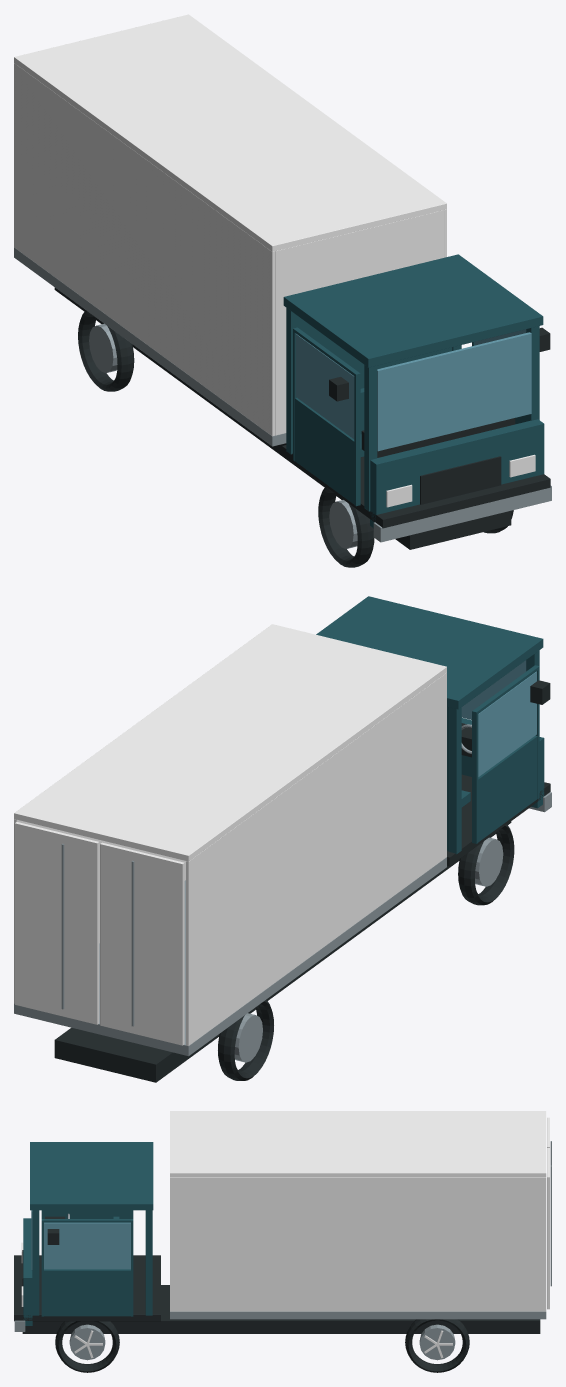
Rendered from cargo-truck.glb.
3 renders of one model, top to bottom at view 1: azimuth 30°, elevation 25°; view 2: azimuth 150°, elevation 25°; view 3: azimuth 270°, elevation 25°, orthographic. The views are drawn at different scales.
Visible parts, largest first — view 1: Cargo_Side.001, Cargo_Roof, Cab_Roof, Windscreen, Cargo_Front, Front_Fascia, Cab_Door_Lower.001, Cab_Door_Pane.001, Cab_Floor, Cargo_Floor, Front_Bumper, Chassis (+11 smaller); view 2: Cargo_Side.001, Cargo_Roof, Loading_Door.001, Loading_Door, Cab_Roof, Cargo_Floor, Chassis, Cab_Door_Lower.001, Cab_Door_Pane.001, Tyre_RL, Tyre_FL, Cab_B_Pillar.001 (+9 smaller); view 3: Cargo_Side, Cargo_Roof, Cab_Roof, Chassis, Cab_Door_Lower, Cab_Door_Pane, Cargo_Floor, Cab_Floor, Tyre_RR, Tyre_FR, Front_Fascia, Hub_RR (+6 smaller).
Part boxes in pixels (x1,y1,x2,y2): Cargo_Side.001: (14,63,274,436); Cargo_Roof: (14,14,446,251); Cab_Roof: (283,254,543,367); Windscreen: (377,332,531,451); Cargo_Front: (275,210,444,435); Front_Fascia: (370,419,544,527); Cab_Door_Lower.001: (295,398,360,505); Cab_Door_Pane.001: (295,334,354,439); Cab_Floor: (282,445,550,528); Cargo_Floor: (14,247,286,446); Front_Bumper: (373,485,551,542); Chassis: (54,287,511,549); Cargo_Side.001: (186,673,446,1045); Cargo_Roof: (14,624,446,861); Loading_Door.001: (14,822,99,1024); Loading_Door: (100,842,184,1045); Cab_Roof: (316,596,543,709); Cargo_Floor: (14,857,446,1056); Chassis: (54,821,511,1082); Cab_Door_Lower.001: (472,735,537,843); Cab_Door_Pane.001: (478,671,536,776); Tyre_RL: (218,1000,273,1080); Tyre_FL: (458,824,514,905); Cab_B_Pillar.001: (448,707,461,854); Cargo_Side: (170,1177,546,1311); Cargo_Roof: (170,1111,546,1177); Cab_Roof: (30,1142,153,1210); Chassis: (22,1285,540,1333); Cab_Door_Lower: (44,1269,130,1316); Cab_Door_Pane: (44,1222,130,1269); Cargo_Floor: (170,1311,546,1319); Cab_Floor: (14,1255,160,1321); Tyre_RR: (405,1319,469,1372); Tyre_FR: (55,1321,119,1372); Front_Fascia: (23,1218,32,1325); Hub_RR: (419,1324,455,1360).
Bounding box in the file's own units: 3.05 × 3.84 × 9.15.
